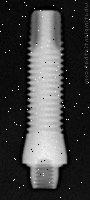Neodent: (20, 7, 76, 191)
